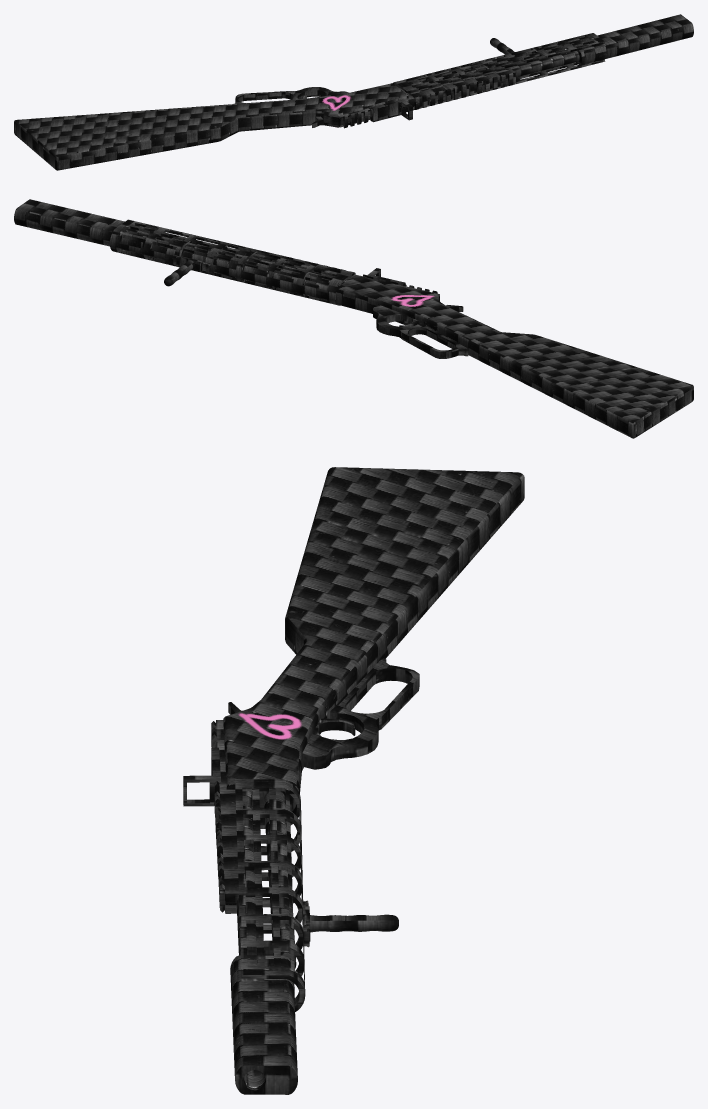
The model's file is underlever_world REAL.dae.
3 views of the same model, one above another, from view 1: azimuth 30°, elevation 25°; view 2: azimuth 150°, elevation 25°; view 3: azimuth 270°, elevation 25° (orthographic). The views are drawn at different scales.
Parts seen in each view (by area): view 1: Rifle; view 2: Rifle; view 3: Rifle.
Part boxes in pixels (x1=…): Rifle: x1=14, y1=14, x2=693, y2=170; Rifle: x1=14, y1=199, x2=693, y2=438; Rifle: x1=183, y1=467, x2=524, y2=1094.
Bounding box in the file's own units: 1.2 × 0.2899 × 0.0388.
1 material, 1 textured.
